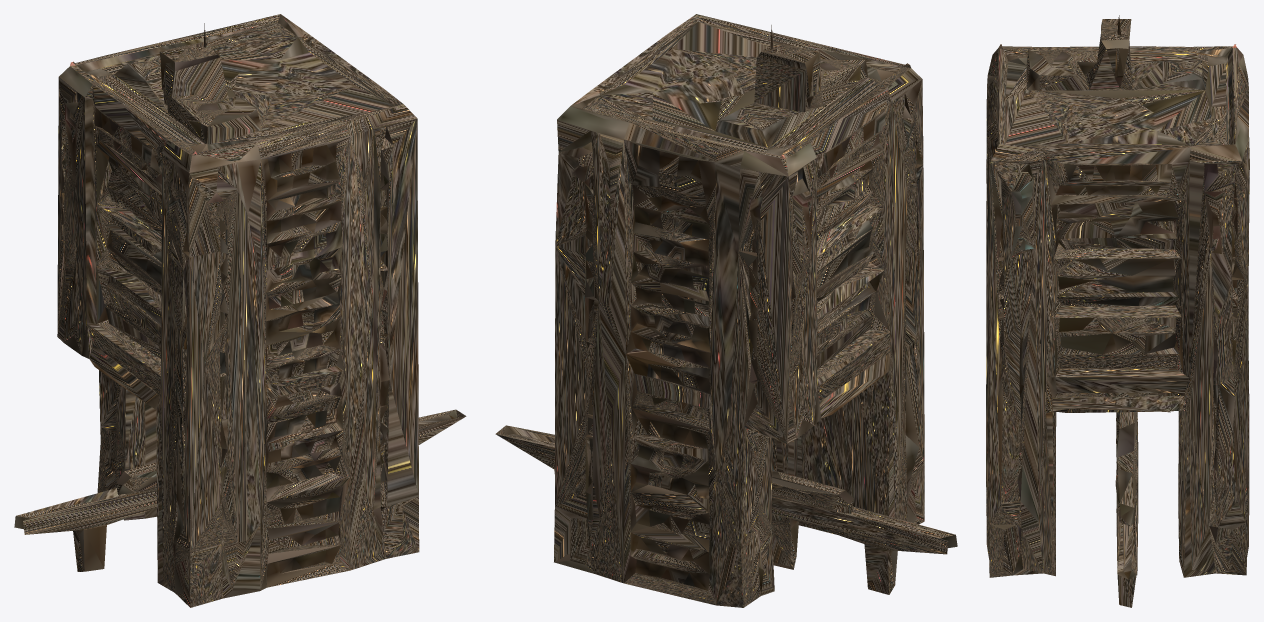
File: m06_far.glb
3 views of the same model, side by side, from view 1: azimuth 30°, elevation 25°; view 2: azimuth 150°, elevation 25°; view 3: azimuth 270°, elevation 25° (orthographic). The views are drawn at different scales.
Visible parts, largest first — view 1: m06_far; view 2: m06_far; view 3: m06_far.
Part boxes in pixels (<box>): m06_far: <box>14,14,466,607</box>; m06_far: <box>495,14,957,607</box>; m06_far: <box>986,15,1249,607</box>.
Bounding box in the file's own units: 176 × 200 × 94.89.
Materials: 1 (1 with a texture image).
